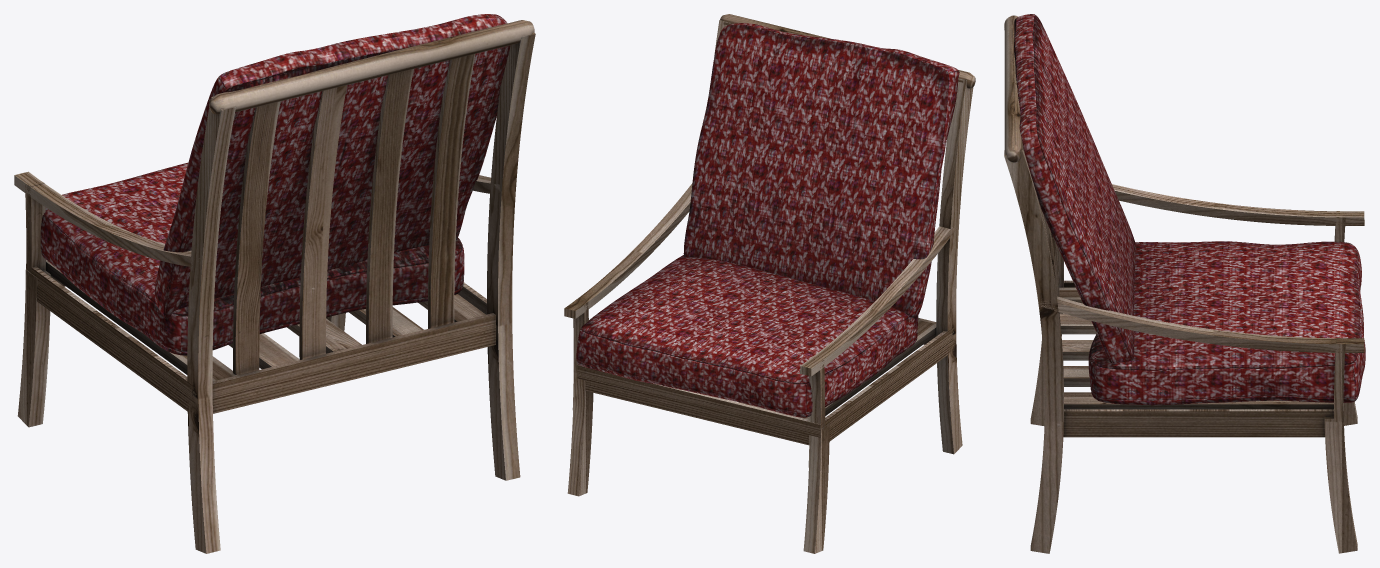
File: prop_chair.glb
3 renders of one model, left to right at view 1: azimuth 30°, elevation 25°; view 2: azimuth 150°, elevation 25°; view 3: azimuth 270°, elevation 25°, orthographic. The views are drawn at different scales.
Parts seen in each view (by area): view 1: Object_3, Object_2; view 2: Object_2, Object_3; view 3: Object_2, Object_3.
Part boxes in pixels (x1,y1,x2,y2): Object_3: [14, 20, 535, 553]; Object_2: [40, 14, 510, 355]; Object_2: [576, 23, 959, 417]; Object_3: [564, 14, 975, 553]; Object_2: [1014, 14, 1365, 405]; Object_3: [1004, 15, 1364, 553].
Bounding box in the file's own units: 68 × 97.18 × 75.86.
Materials: 2 (2 with a texture image).
